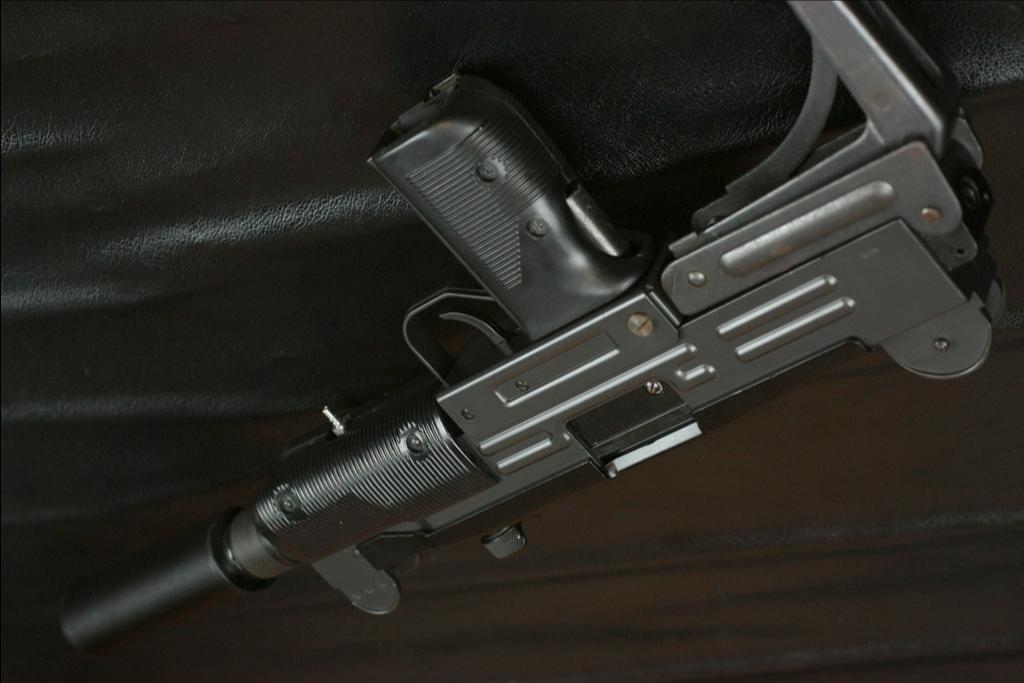gun: (53, 71, 992, 648)
